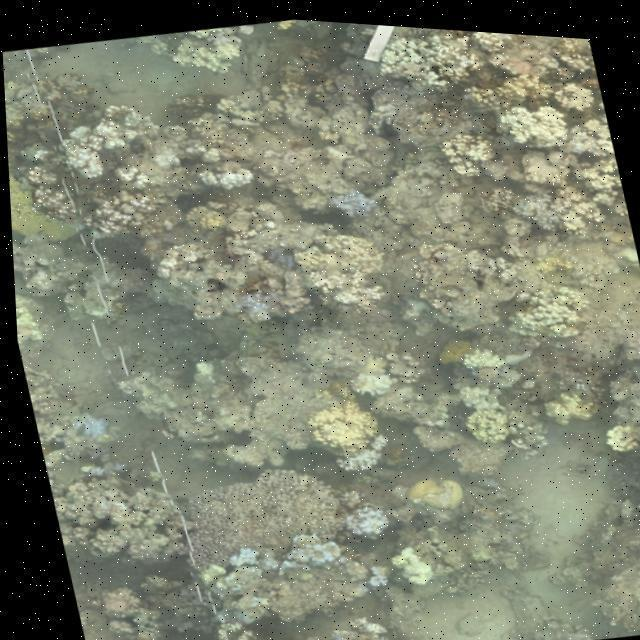Bleached Coral: (488, 63, 628, 238), (369, 20, 550, 94), (44, 89, 160, 182), (501, 269, 594, 341), (430, 111, 502, 183), (312, 418, 396, 478), (327, 484, 397, 554), (174, 151, 270, 201), (526, 370, 602, 426), (442, 389, 516, 446), (262, 520, 341, 571), (379, 534, 441, 594), (198, 580, 264, 634), (334, 349, 402, 396), (205, 532, 267, 580), (450, 332, 508, 370), (346, 553, 396, 596), (595, 402, 640, 448)
